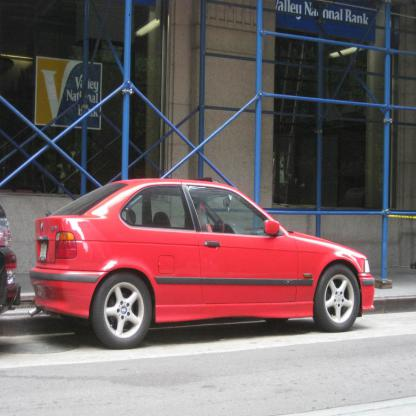Car: (28, 175, 375, 349), (0, 203, 21, 316)
